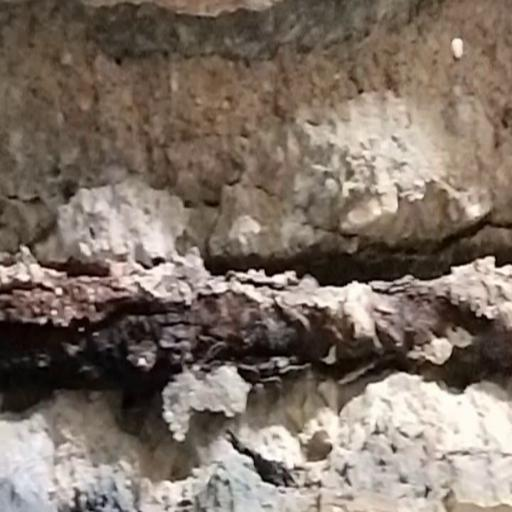spalling: (28, 96, 512, 482)
